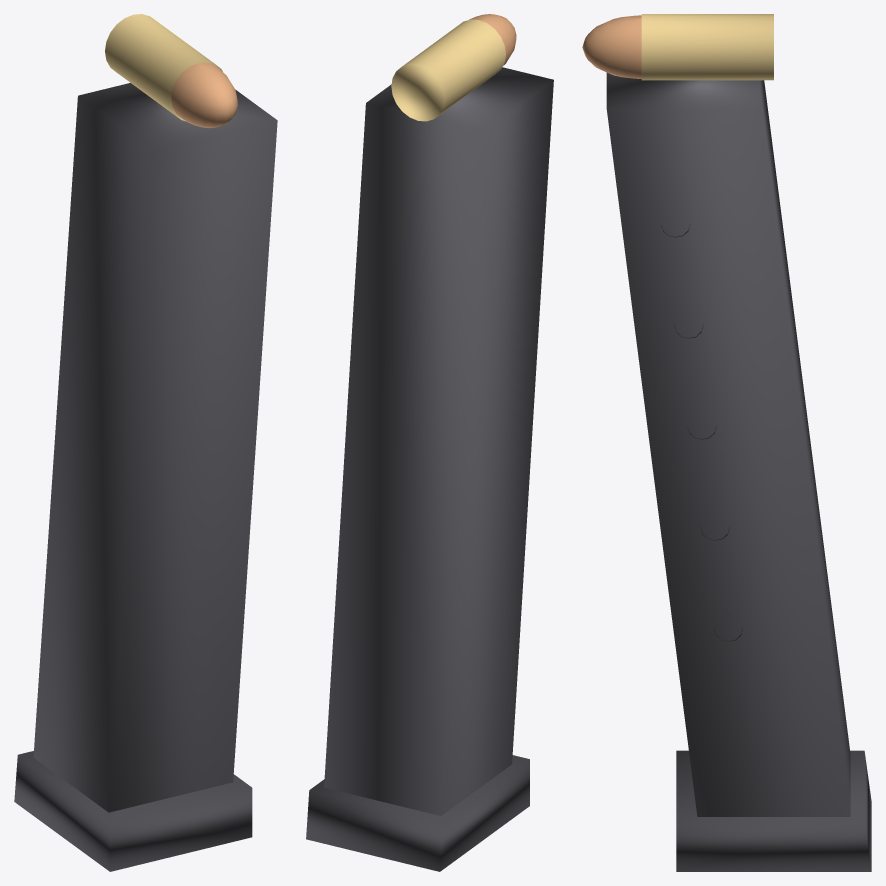
File: magazine.glb
3 renders of one model, left to right at view 1: azimuth 30°, elevation 25°; view 2: azimuth 150°, elevation 25°; view 3: azimuth 270°, elevation 25°, orthographic. The views are drawn at different scales.
Visible parts, largest first — view 1: Magazine, Round; view 2: Magazine, Round; view 3: Magazine, Round.
Boxes of the visible parts, left/top/right/bottom form: Magazine: left=14, top=83, right=277, bottom=871; Round: left=105, top=14, right=237, bottom=128; Magazine: left=306, top=67, right=553, bottom=871; Round: left=391, top=14, right=516, bottom=121; Magazine: left=606, top=72, right=871, bottom=871; Round: left=582, top=14, right=773, bottom=80.
Bounding box in the file's own units: 0.024 × 0.1298 × 0.0415.
